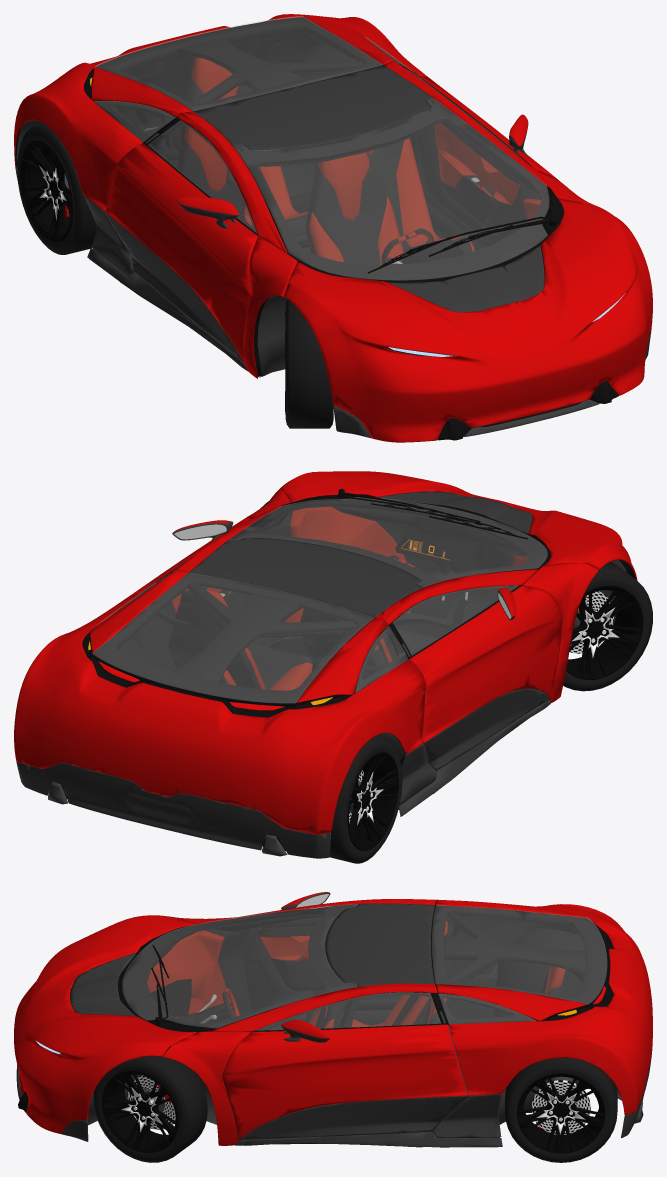
File: concept-car-fast.glb
3 views of the same model, one above another, from view 1: azimuth 30°, elevation 25°; view 2: azimuth 150°, elevation 25°; view 3: azimuth 270°, elevation 25° (orthographic). The views are drawn at different scales.
Parts seen in each view (by area): view 1: BodyHood, BodyWindshield, BodyRearwindow, BodyDoorRColor1, BodyRearPanelsColor1, BodyRoofPanel, BodyWindshieldGasket, InteriorSeatsColor1, InteriorSeatsColor2, BodyPillars, InteriorPillar, InteriorRearHatch (+21 smaller); view 2: BodyRearPanelsColor1, BodyRearwindow, BodyWindshield, BodyPanelsColor2, BodyDoorRColor1, BodyRoofPanel, BodyHood, InteriorRearHatch, BodyPillars, InteriorPillar, InteriorDashMid, BodyWindshieldGasket (+21 smaller); view 3: BodyRearPanelsColor1, BodyWindshield, BodyDoorLColor1, BodyHood, BodyRearwindow, BodyRoofPanel, BodyPillars, BodyWindshieldGasket, BodyDoorLColor2, BodyPanelsColor2, WheelFrontL, InteriorRearHatch (+25 smaller).
Boxes of the visible parts, bbox=[...] form: BodyHood: bbox=[284, 198, 652, 442]; BodyWindshield: bbox=[234, 98, 549, 280]; BodyRearwindow: bbox=[95, 16, 382, 110]; BodyDoorRColor1: bbox=[104, 143, 257, 362]; BodyRearPanelsColor1: bbox=[14, 14, 428, 210]; BodyRoofPanel: bbox=[193, 65, 432, 150]; BodyWindshieldGasket: bbox=[234, 99, 563, 282]; InteriorSeatsColor1: bbox=[185, 57, 475, 264]; InteriorSeatsColor2: bbox=[180, 78, 472, 264]; BodyPillars: bbox=[176, 61, 598, 378]; InteriorPillar: bbox=[158, 37, 434, 168]; InteriorRearHatch: bbox=[93, 17, 383, 117]; BodyRearPanelsColor1: bbox=[14, 569, 425, 834]; BodyRearwindow: bbox=[92, 573, 373, 703]; BodyWindshield: bbox=[229, 497, 547, 587]; BodyPanelsColor2: bbox=[16, 700, 550, 858]; BodyDoorRColor1: bbox=[409, 585, 562, 742]; BodyRoofPanel: bbox=[189, 537, 422, 617]; BodyHood: bbox=[279, 471, 637, 580]; InteriorRearHatch: bbox=[93, 573, 386, 707]; BodyPillars: bbox=[175, 489, 599, 702]; InteriorPillar: bbox=[174, 574, 417, 682]; InteriorDashMid: bbox=[331, 503, 528, 622]; BodyWindshieldGasket: bbox=[230, 497, 550, 587]; BodyRearPanelsColor1: bbox=[436, 899, 652, 1115]; BodyWindshield: bbox=[122, 904, 357, 1028]; BodyDoorLColor1: bbox=[222, 1024, 467, 1140]; BodyHood: bbox=[14, 915, 196, 1133]; BodyRearwindow: bbox=[432, 905, 606, 1003]; BodyRoofPanel: bbox=[326, 903, 434, 986]; BodyPillars: bbox=[163, 899, 437, 1145]; BodyWindshieldGasket: bbox=[118, 905, 357, 1032]; BodyDoorLColor2: bbox=[240, 1096, 467, 1140]; BodyPanelsColor2: bbox=[16, 1050, 652, 1147]; WheelFrontL: bbox=[93, 1054, 207, 1162]; InteriorRearHatch: bbox=[431, 905, 606, 1020].
Bounding box in the file's own units: 2.54 × 1.15 × 4.36.
22 materials, 2 textured.
